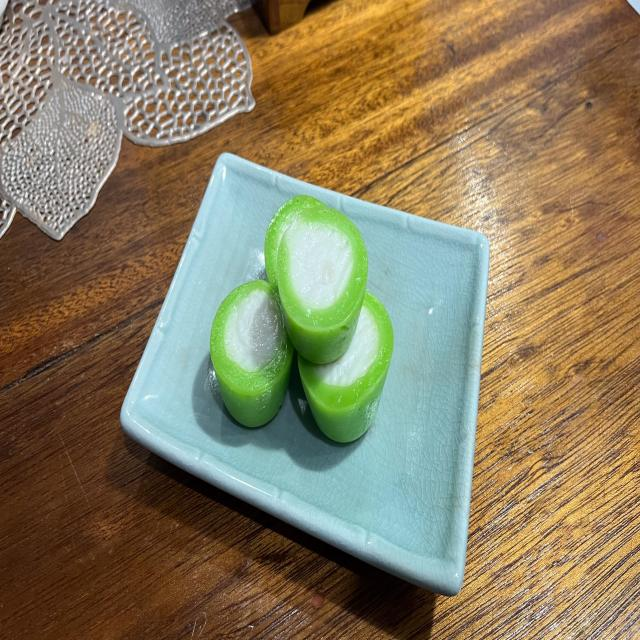nona-manis: (299, 293, 394, 442), (278, 207, 368, 364), (210, 280, 294, 427), (265, 196, 328, 289)
